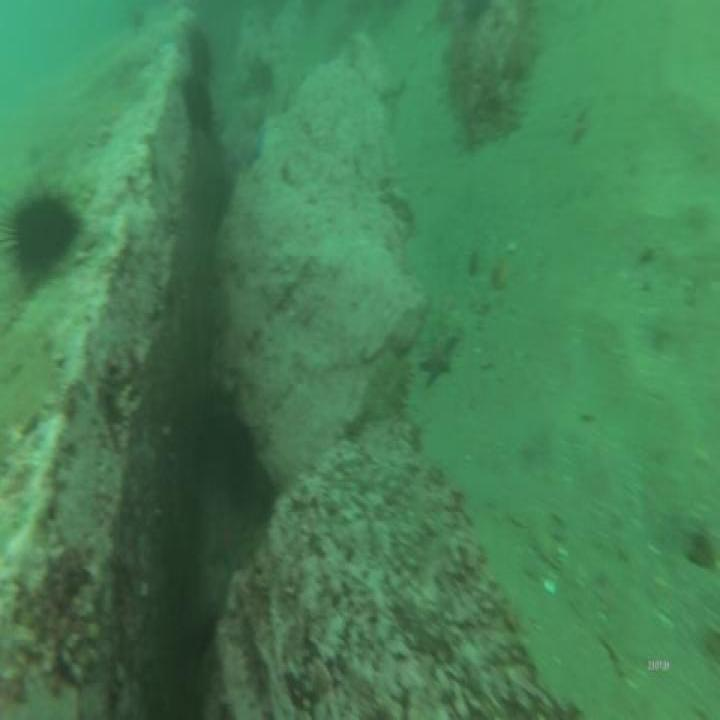echinus: (2, 180, 85, 288), (184, 69, 213, 139), (186, 23, 214, 82)
starfish: (415, 322, 460, 396), (230, 124, 270, 180)
